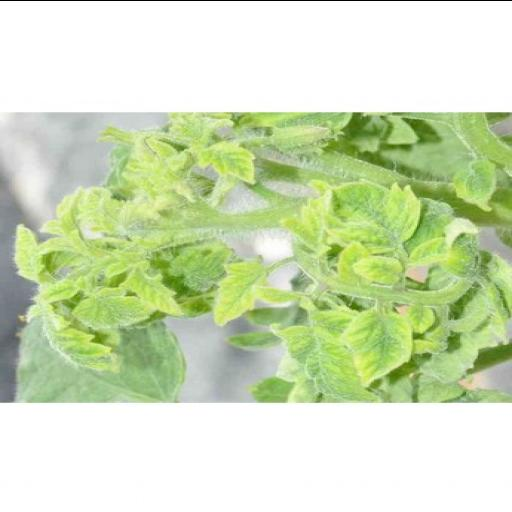Yellow Leaf Curl Virus: (312, 180, 428, 246), (338, 300, 422, 384), (43, 300, 120, 372), (210, 244, 272, 330), (122, 267, 188, 313), (193, 145, 267, 181), (347, 254, 409, 284)
